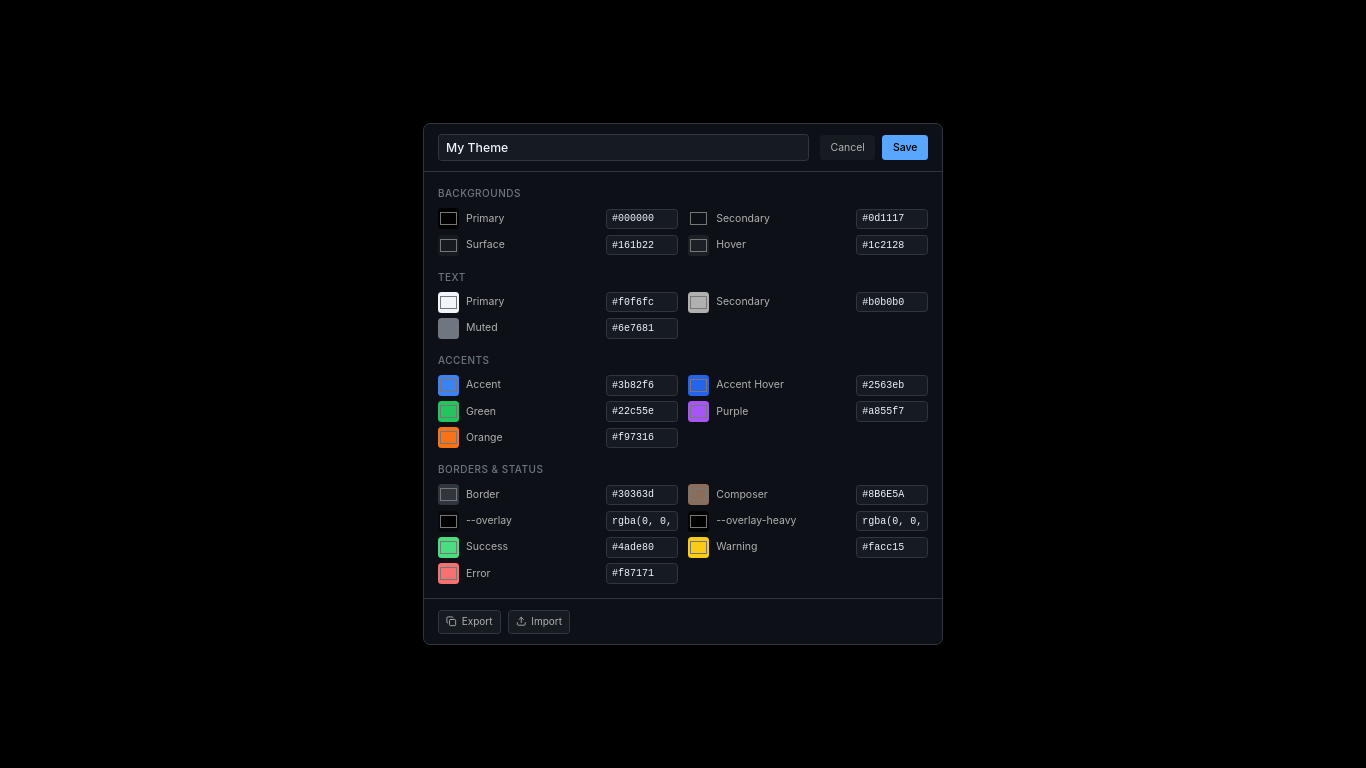
Test: ThemeEditorModal › shows import panel when Import is clicked
Step 1. Click the button "Import" → (539, 622), box [508, 610, 570, 634]
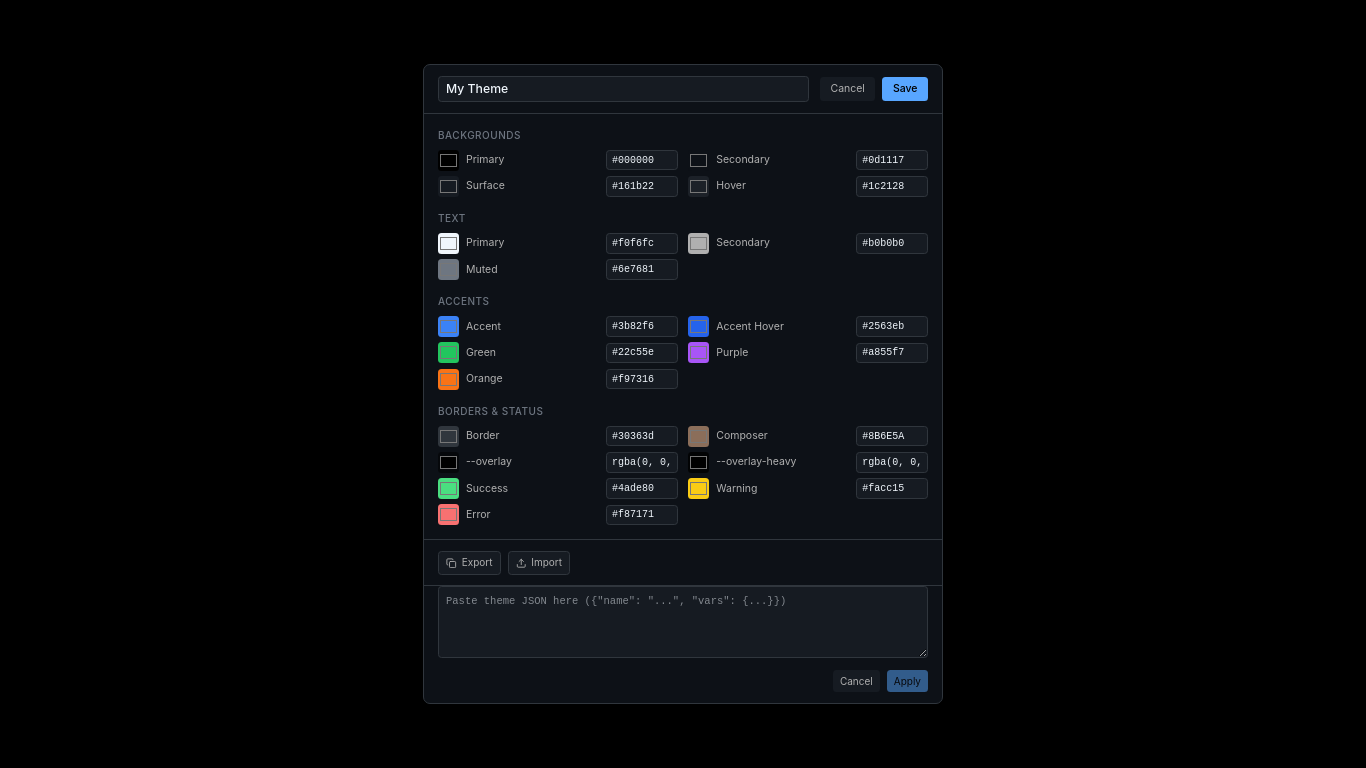
Check: the text box with placeholder "Paste theme JSON here ({\"name\": \"...\", \"vars\": {...}})" is shown, box [438, 586, 928, 658]
